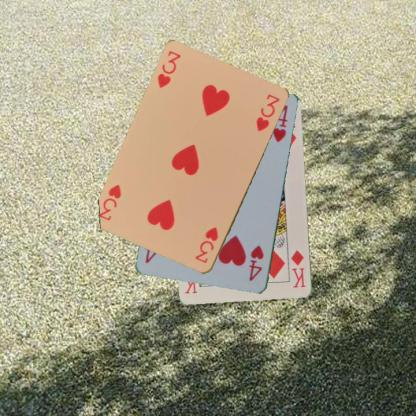3h: (155, 48, 182, 90), (192, 224, 220, 264)
4h: (247, 242, 265, 283)
Kd: (288, 247, 307, 290)
